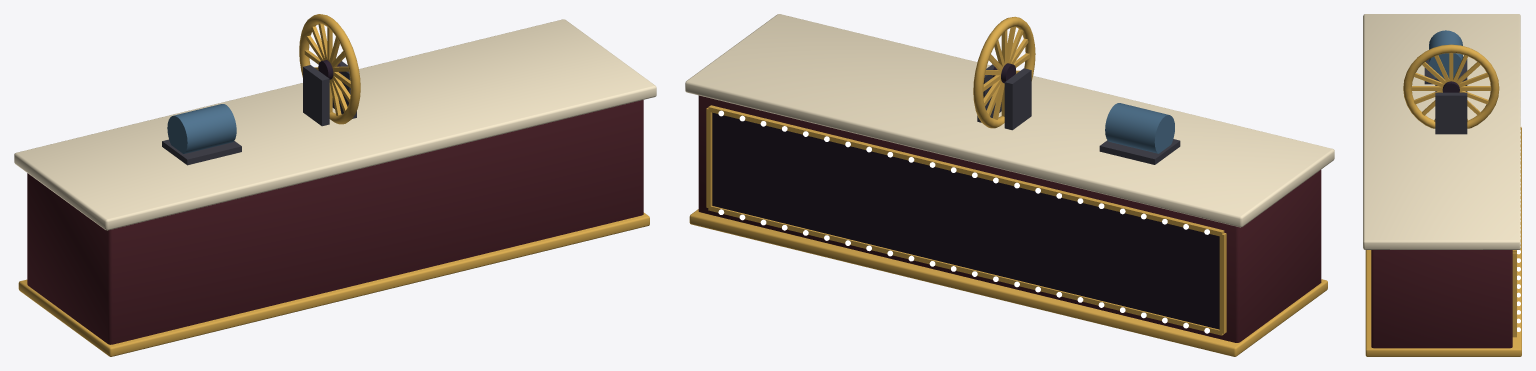
File: ShaftTop.fbx
The picture shows the model from 3 angles, left to right: view 1: azimuth 30°, elevation 25°; view 2: azimuth 150°, elevation 25°; view 3: azimuth 270°, elevation 25°; orthographic projection. The views are drawn at different scales.
Visible parts, largest first — view 1: Housing, Pulley; view 2: Housing, Pulley; view 3: Housing, Pulley.
Part boxes in pixels (bbox=[...]): Housing: bbox=[14, 19, 656, 356]; Pulley: bbox=[299, 14, 360, 124]; Housing: bbox=[685, 14, 1334, 356]; Pulley: bbox=[973, 16, 1035, 128]; Housing: bbox=[1363, 14, 1521, 356]; Pulley: bbox=[1403, 44, 1499, 128].
Size of the model in its own units: 10.1 by 4.15 by 2.97.
